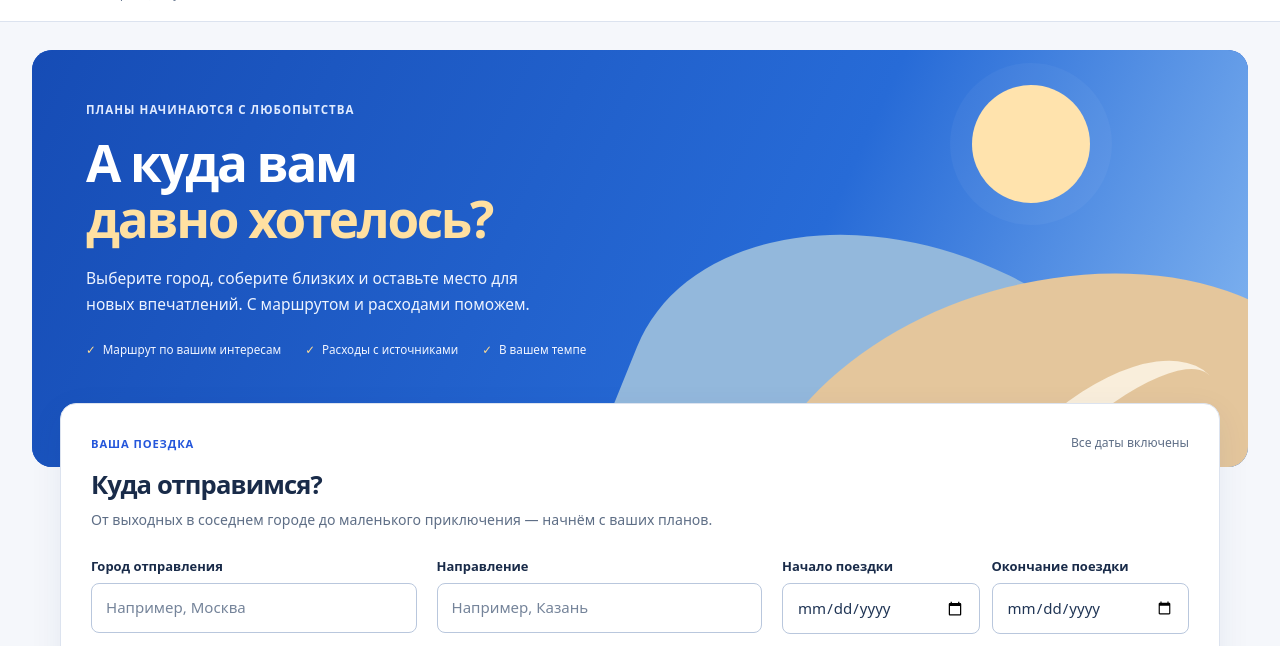
Test case: preserves form values on HTTP 409 and maps field errors
Type "Москва" into the field labelled "Город отправления" at (254,608), box [91, 583, 416, 633]
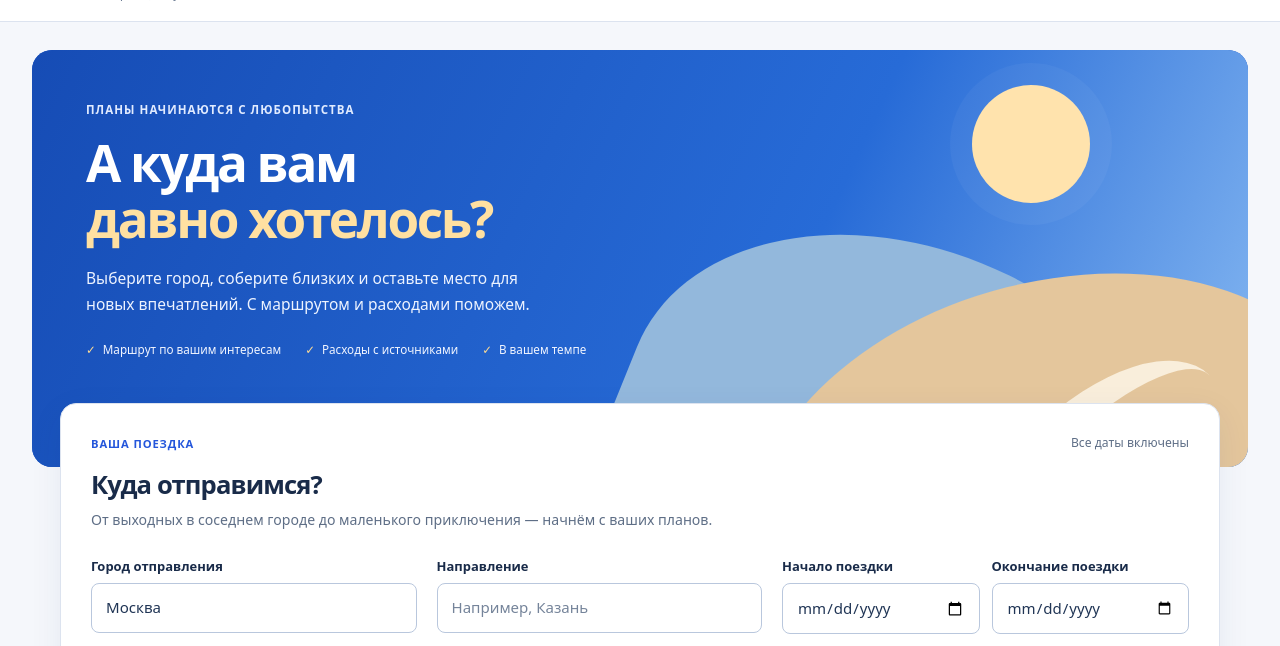
Type "Казань" into the field labelled "Направление" at (599,608), box [436, 583, 762, 633]
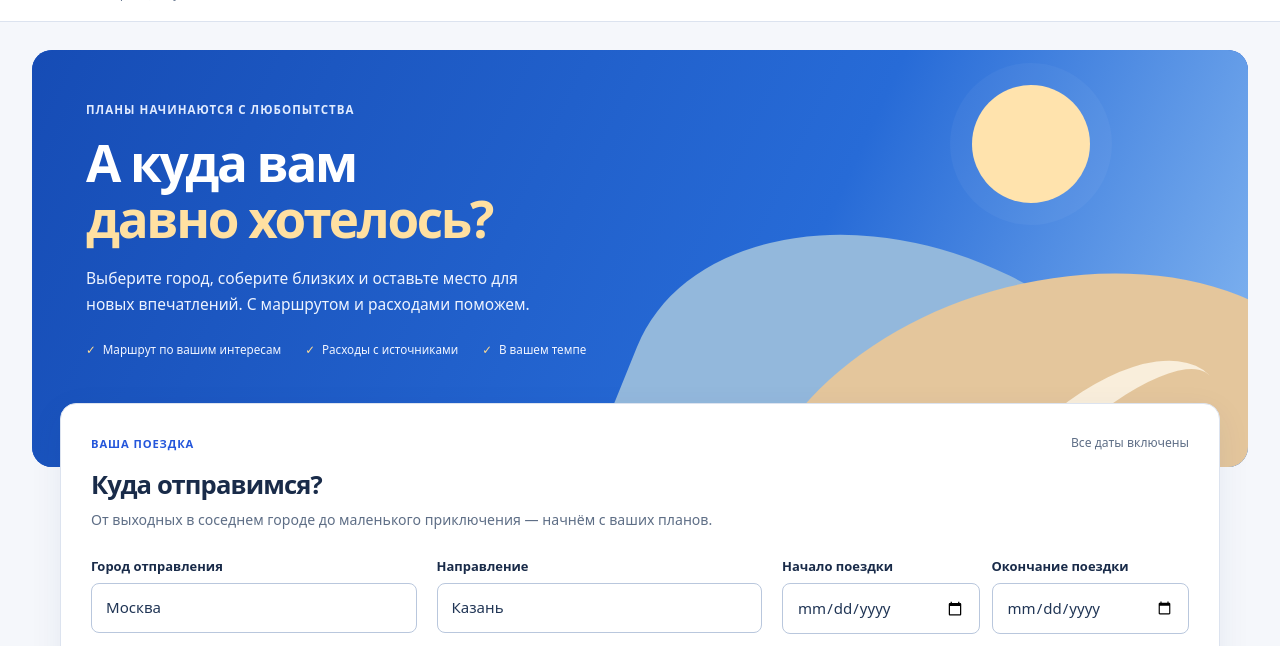
Type "2026-11-14" into the date field labelled "Начало поездки" at (881,608), box [782, 583, 980, 634]
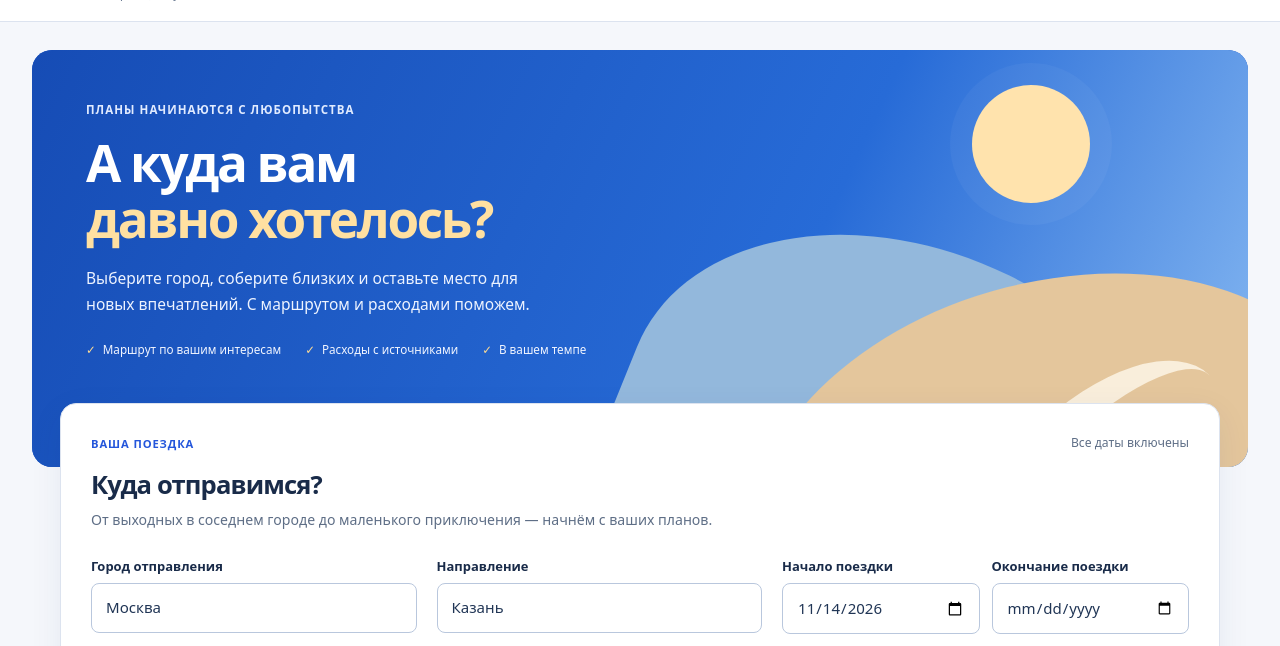
Type "2026-11-15" into the date field labelled "Окончание поездки" at (1090,608), box [992, 583, 1189, 634]
(page scrolled)
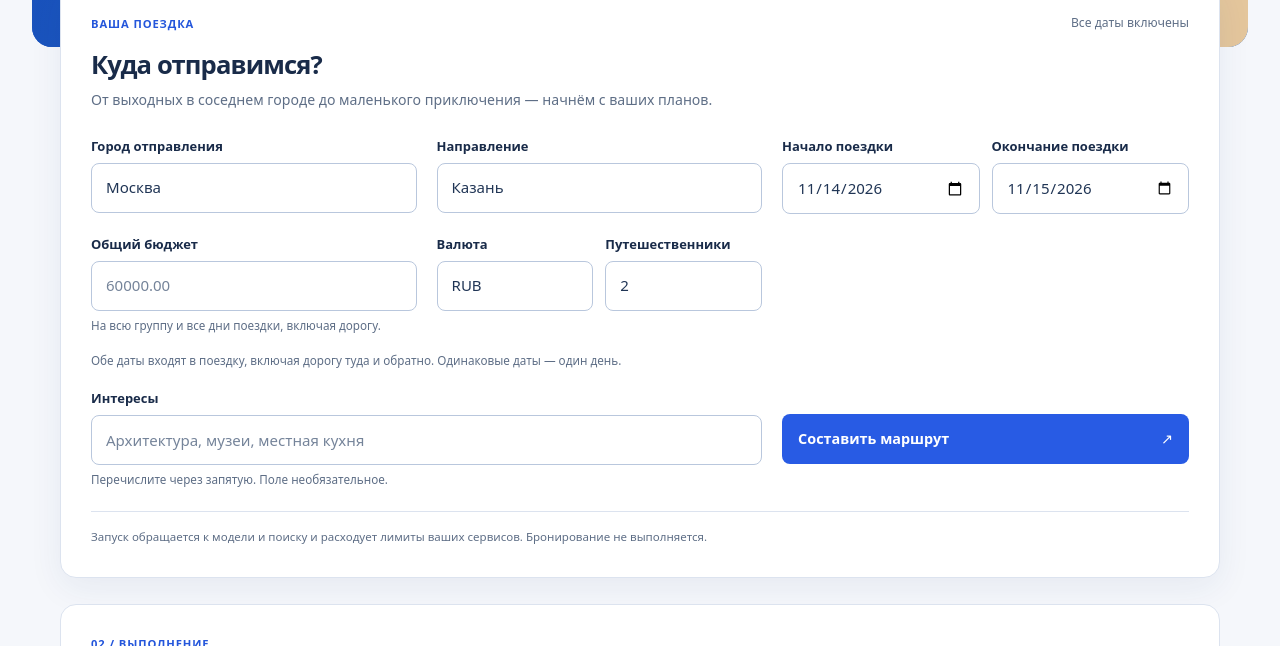
Type "60000.0001" into the field labelled "Общий бюджет" at (254,286), box [91, 261, 416, 311]
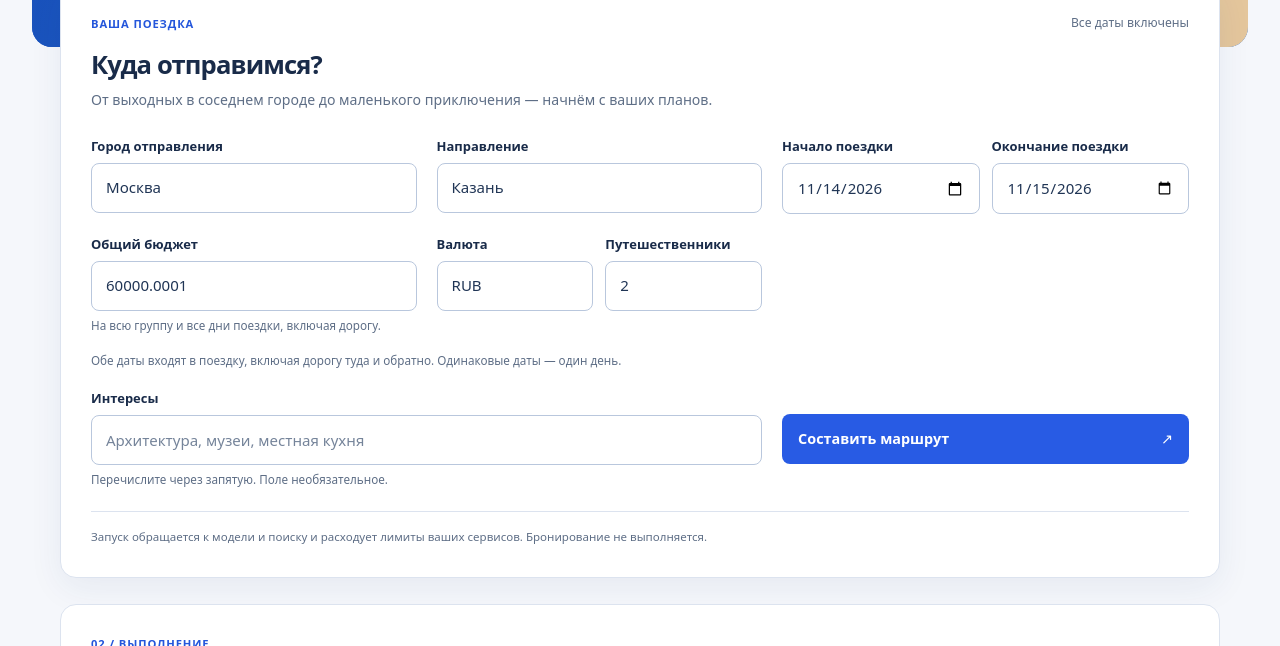
Click the button "Составить маршрут ↗" at (874,438), box [782, 414, 1189, 464]
(page scrolled)
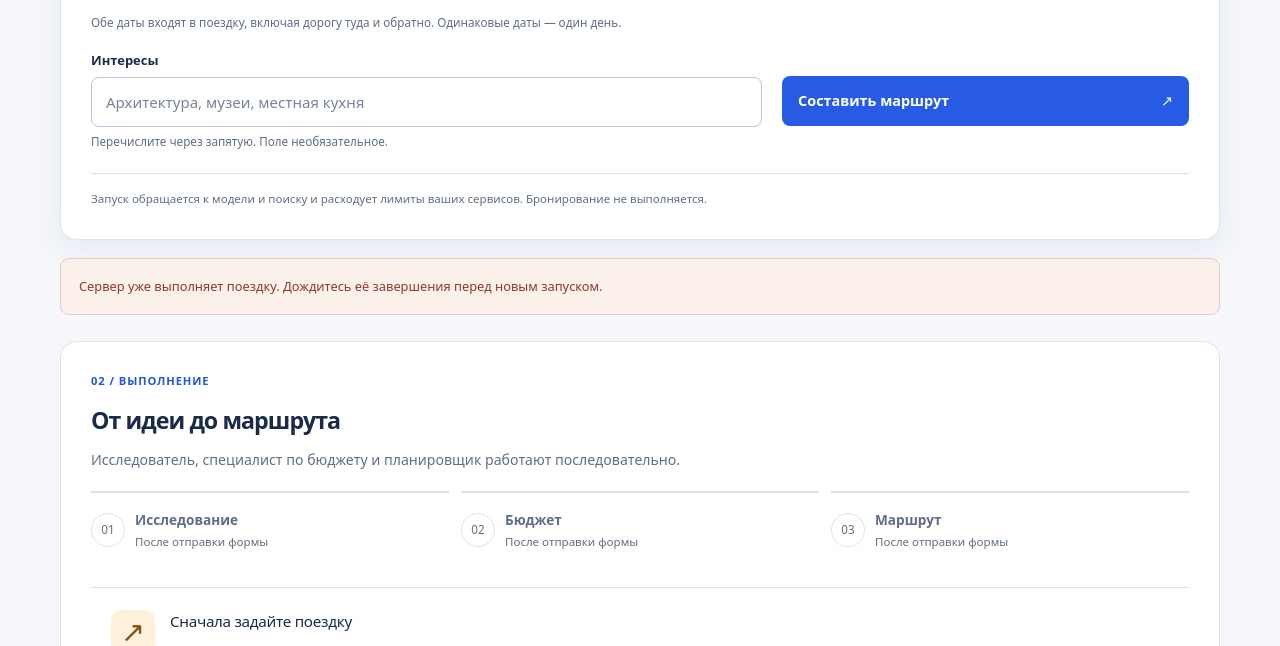
expect the text "Сервер уже выполняет поездку. Дождитесь её завершения перед новым запуском." is shown: met, box [60, 258, 1220, 315]
